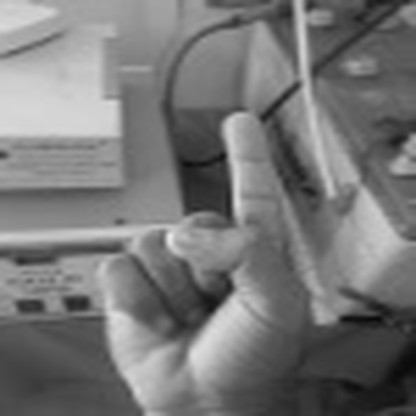d: (95, 101, 299, 415)
